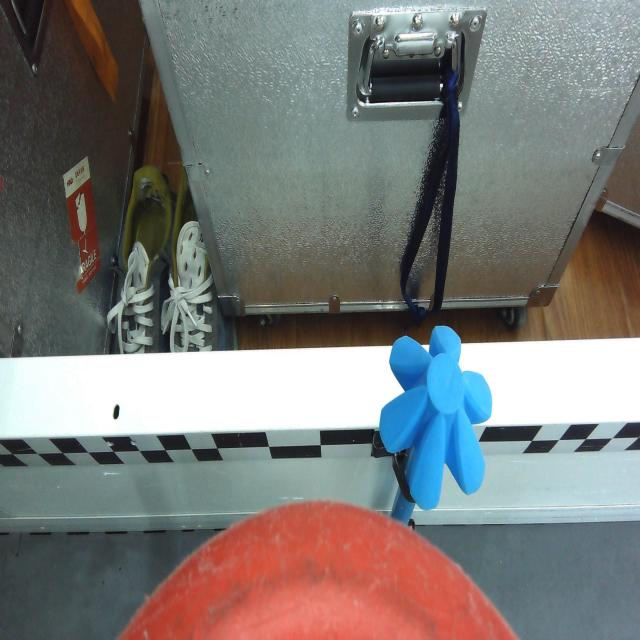zblue-Stake-Head: (382, 329, 492, 510)
